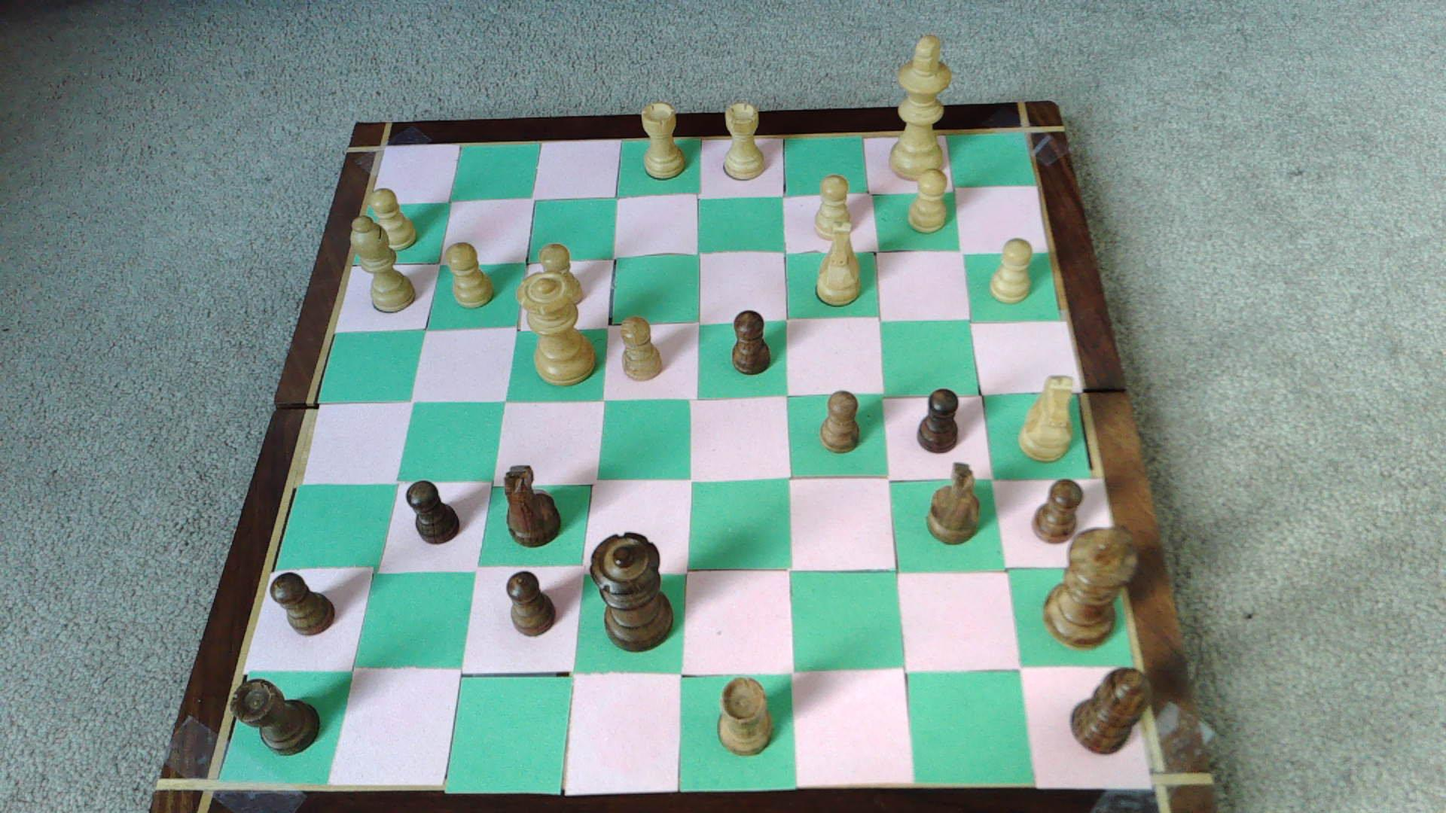dark_piece: (1044, 527, 1137, 646), (590, 533, 673, 650), (232, 679, 320, 754), (1071, 668, 1147, 752), (504, 464, 560, 547), (926, 462, 980, 544), (718, 676, 773, 754), (270, 572, 335, 634), (406, 481, 460, 544), (1031, 480, 1083, 543), (506, 571, 555, 635), (917, 390, 959, 452), (732, 310, 771, 374), (820, 391, 860, 452)
white_piece: (889, 34, 953, 181), (518, 274, 595, 385), (350, 214, 415, 312), (1019, 376, 1074, 461), (641, 101, 686, 179), (723, 101, 767, 180), (816, 229, 860, 305), (445, 242, 494, 307), (368, 189, 418, 251), (989, 238, 1033, 303), (540, 243, 585, 306), (621, 317, 663, 380), (908, 169, 948, 233), (814, 175, 852, 240)
